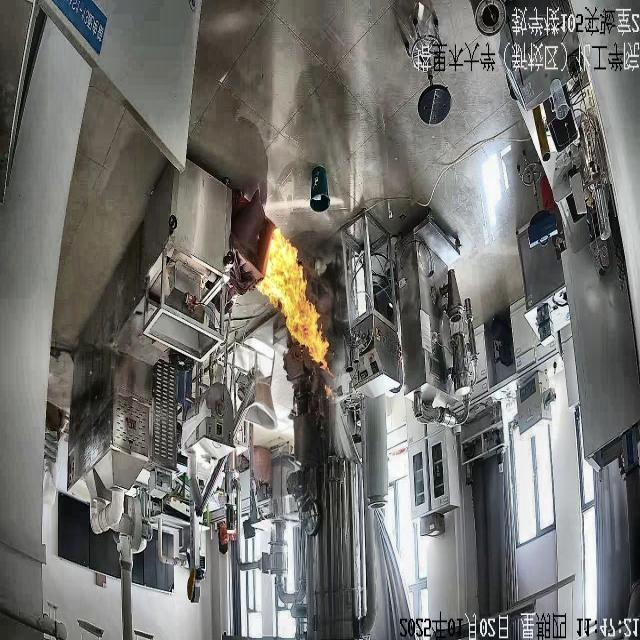fire: (251, 225, 337, 382)
